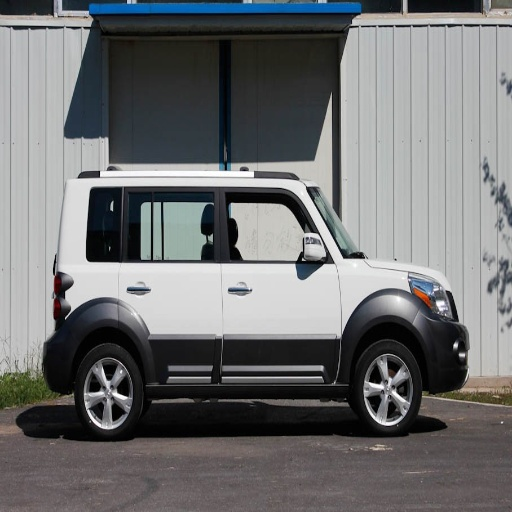back_right_door: (121, 183, 219, 382)
front_right_door: (220, 184, 340, 378)
